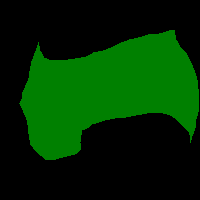mutande: (19, 29, 199, 160)
